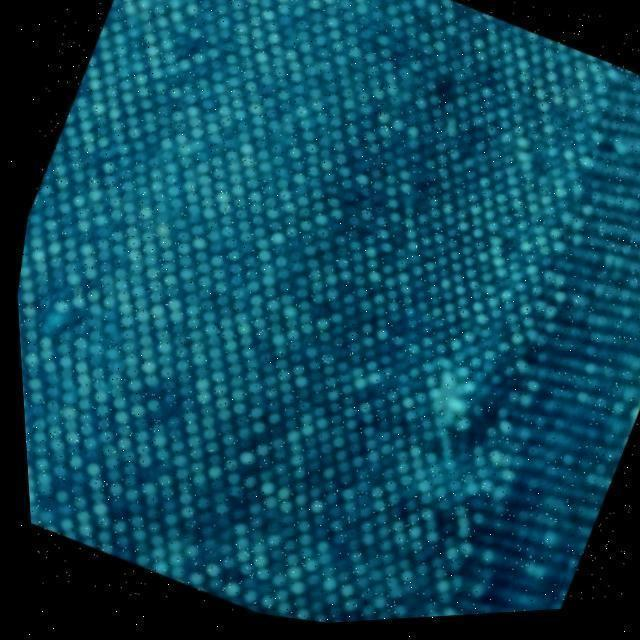pulled_or_thick_thread: (425, 376, 478, 435)
